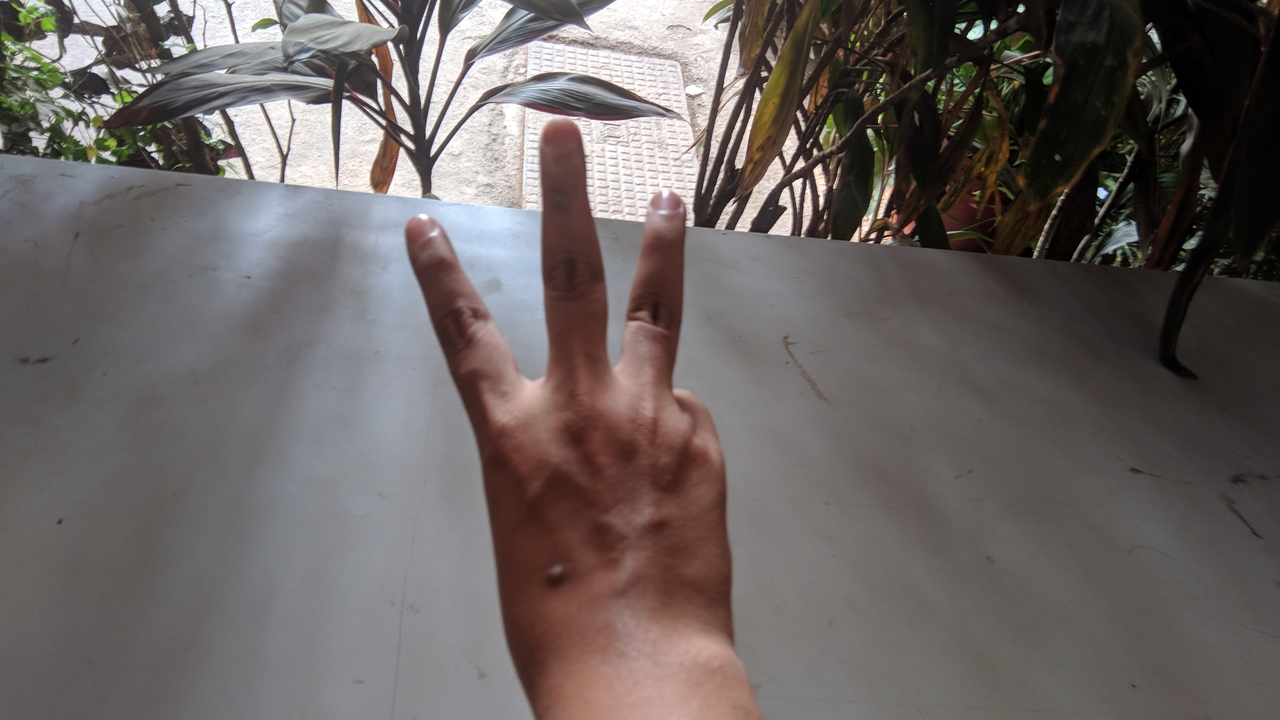fingertip: (392, 200, 456, 264), (636, 178, 692, 232), (536, 114, 588, 160)
